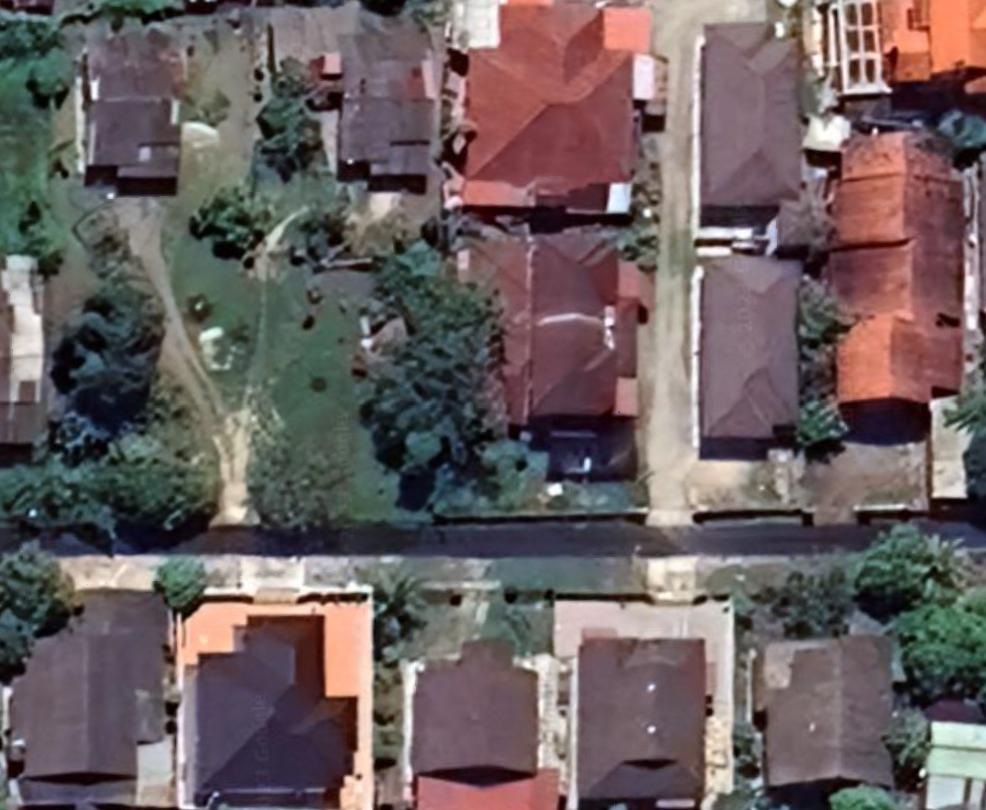building: (448, 2, 663, 228), (826, 123, 969, 418), (178, 605, 368, 810), (3, 581, 179, 789), (690, 14, 829, 252), (739, 625, 916, 798), (402, 635, 572, 809), (300, 20, 444, 194), (572, 631, 713, 805), (691, 251, 808, 457), (447, 227, 664, 338), (71, 29, 195, 198), (497, 325, 646, 432)
